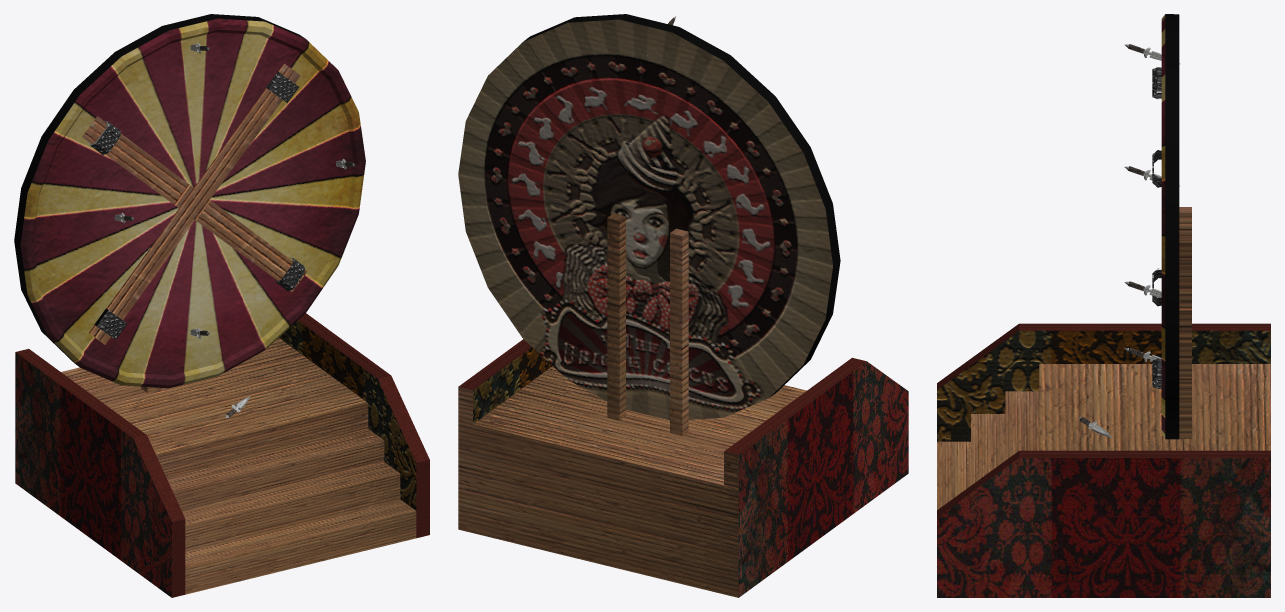
The model's file is Knife_throwing_board.FBX.
3 renders of one model, left to right at view 1: azimuth 30°, elevation 25°; view 2: azimuth 150°, elevation 25°; view 3: azimuth 270°, elevation 25°, orthographic. The views are drawn at different scales.
Visible parts, largest first — view 1: Cylinder001, Box001; view 2: Cylinder001, Box001; view 3: Box001, Cylinder001.
Boxes of the visible parts, box(x1,y1,x2,y2) form: Cylinder001: box(14, 14, 365, 388); Box001: box(15, 313, 429, 597); Cylinder001: box(458, 14, 840, 420); Box001: box(458, 213, 908, 597); Box001: box(937, 207, 1270, 597); Cylinder001: box(1152, 14, 1179, 439).
Bounding box in the file's own units: 115 × 147 × 90.
